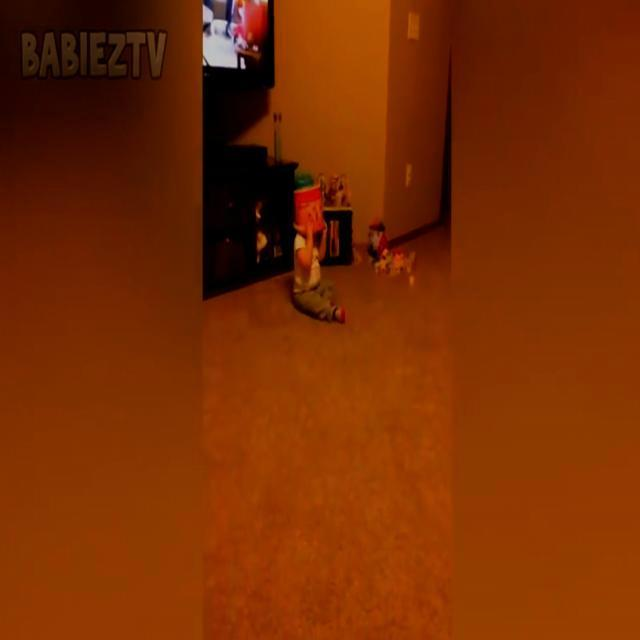child: (292, 170, 347, 328)
